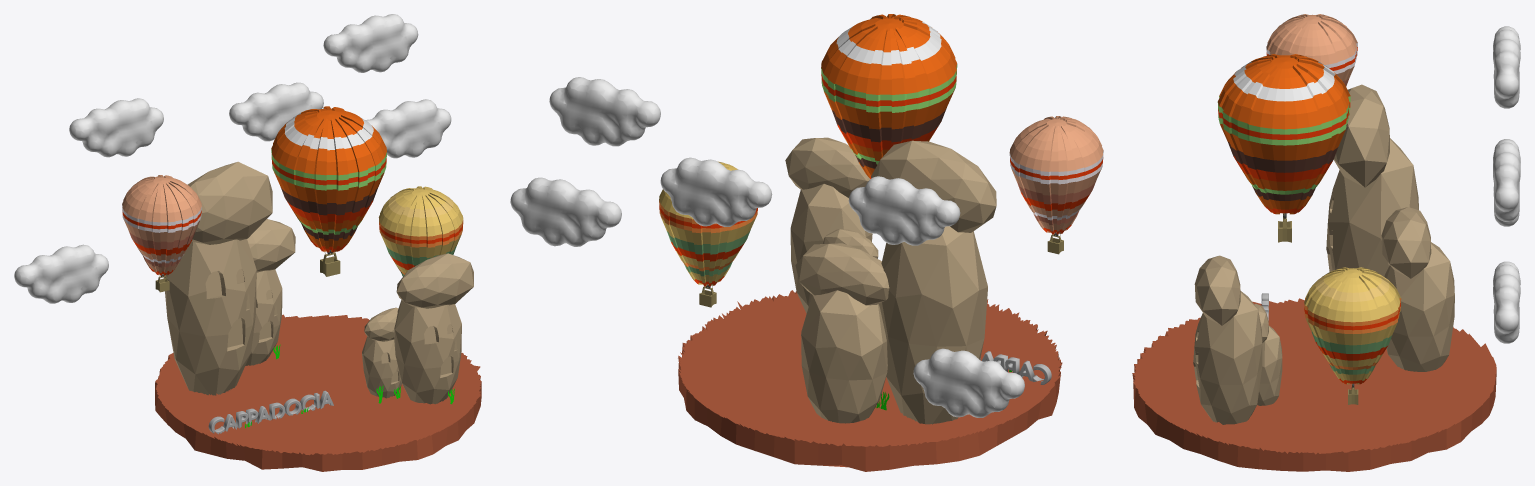
File: uploads_files_3059255_capadocia.fbx
The picture shows the model from 3 angles, left to right: view 1: azimuth 30°, elevation 25°; view 2: azimuth 150°, elevation 25°; view 3: azimuth 270°, elevation 25°; orthographic projection. The views are drawn at different scales.
Visible parts, largest first — view 1: Circle, baca1.002, atesleme, baca1, atesleme.001, balon.002, baca1.003, bulut, bulu3, bulut4, bulut5, buluy2 (+2 smaller); view 2: Circle, baca1.002, atesleme, baca1.003, atesleme.001, baca1, bulut, bulut5, bulu3, bulut4, buluy2, balon.002 (+2 smaller); view 3: Circle, atesleme, baca1.002, baca1, baca1.003, balon.002, atesleme.001, bulut5, bulu3, bulut, baca1.001.
Boxes of the visible parts, left/top/right/bottom form: Circle: left=155, top=314, right=481, bottom=471; baca1.002: left=163, top=161, right=272, bottom=395; atesleme: left=271, top=106, right=386, bottom=276; baca1: left=394, top=253, right=473, bottom=404; atesleme.001: left=122, top=175, right=201, bottom=292; balon.002: left=378, top=186, right=463, bottom=276; baca1.003: left=245, top=219, right=295, bottom=365; bulut: left=69, top=98, right=163, bottom=157; bulu3: left=323, top=14, right=418, bottom=72; bulut4: left=14, top=244, right=108, bottom=303; bulut5: left=365, top=99, right=451, bottom=158; buluy2: left=229, top=82, right=323, bottom=141; Circle: left=678, top=290, right=1062, bottom=471; baca1.002: left=871, top=140, right=996, bottom=424; atesleme: left=821, top=14, right=957, bottom=178; baca1.003: left=795, top=243, right=889, bottom=423; atesleme.001: left=1009, top=116, right=1103, bottom=254; baca1: left=785, top=137, right=872, bottom=313; bulut: left=848, top=176, right=960, bottom=245; bulut5: left=510, top=177, right=621, bottom=246; bulu3: left=549, top=77, right=660, bottom=146; bulut4: left=913, top=348, right=1024, bottom=417; buluy2: left=660, top=157, right=772, bottom=226; balon.002: left=659, top=161, right=757, bottom=307; Circle: left=1132, top=298, right=1496, bottom=471; atesleme: left=1217, top=54, right=1350, bottom=242; baca1.002: left=1326, top=84, right=1418, bottom=276; baca1: left=1193, top=255, right=1262, bottom=424; baca1.003: left=1381, top=207, right=1454, bottom=371; balon.002: left=1304, top=267, right=1401, bottom=404; atesleme.001: left=1266, top=14, right=1357, bottom=86; bulut5: left=1493, top=261, right=1520, bottom=343; bulu3: left=1493, top=139, right=1520, bottom=221; bulut: left=1493, top=26, right=1520, bottom=108; baca1.001: left=1254, top=304, right=1282, bottom=405.
Bounding box in the file's own units: 1992 × 1330 × 1388.
